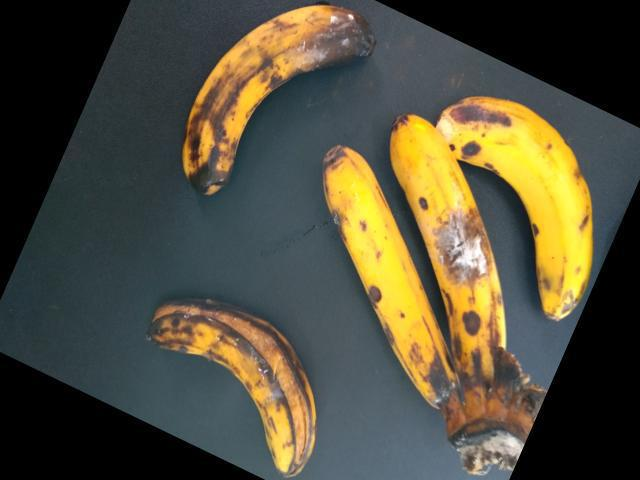ripe: (314, 136, 454, 410), (448, 79, 599, 317)
rotten: (173, 0, 373, 186), (133, 289, 327, 479)
